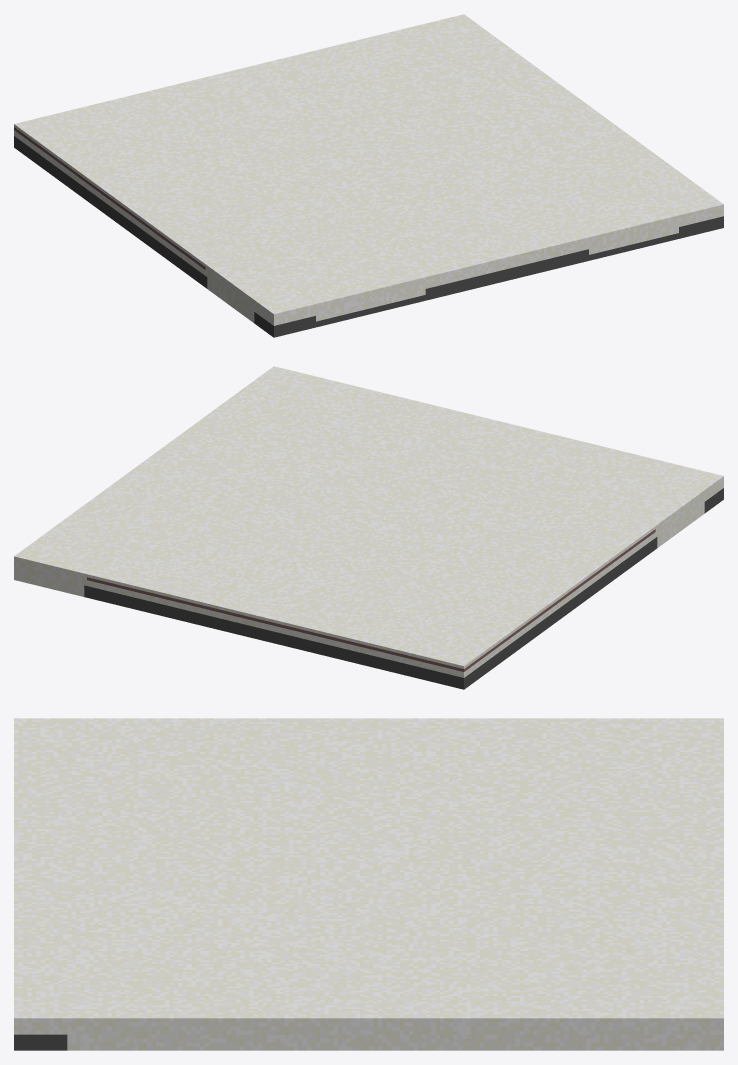
Rendered from pathway castle2.2.obj.
The picture shows the model from 3 angles, top to bottom: view 1: azimuth 30°, elevation 25°; view 2: azimuth 150°, elevation 25°; view 3: azimuth 270°, elevation 25°; orthographic projection. The views are drawn at different scales.
Size of the model in its own units: 16 by 0.8 by 16.
Materials: 1 (1 with a texture image).
